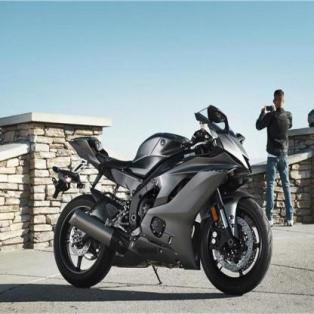Motocicleta: (54, 111, 276, 300)
